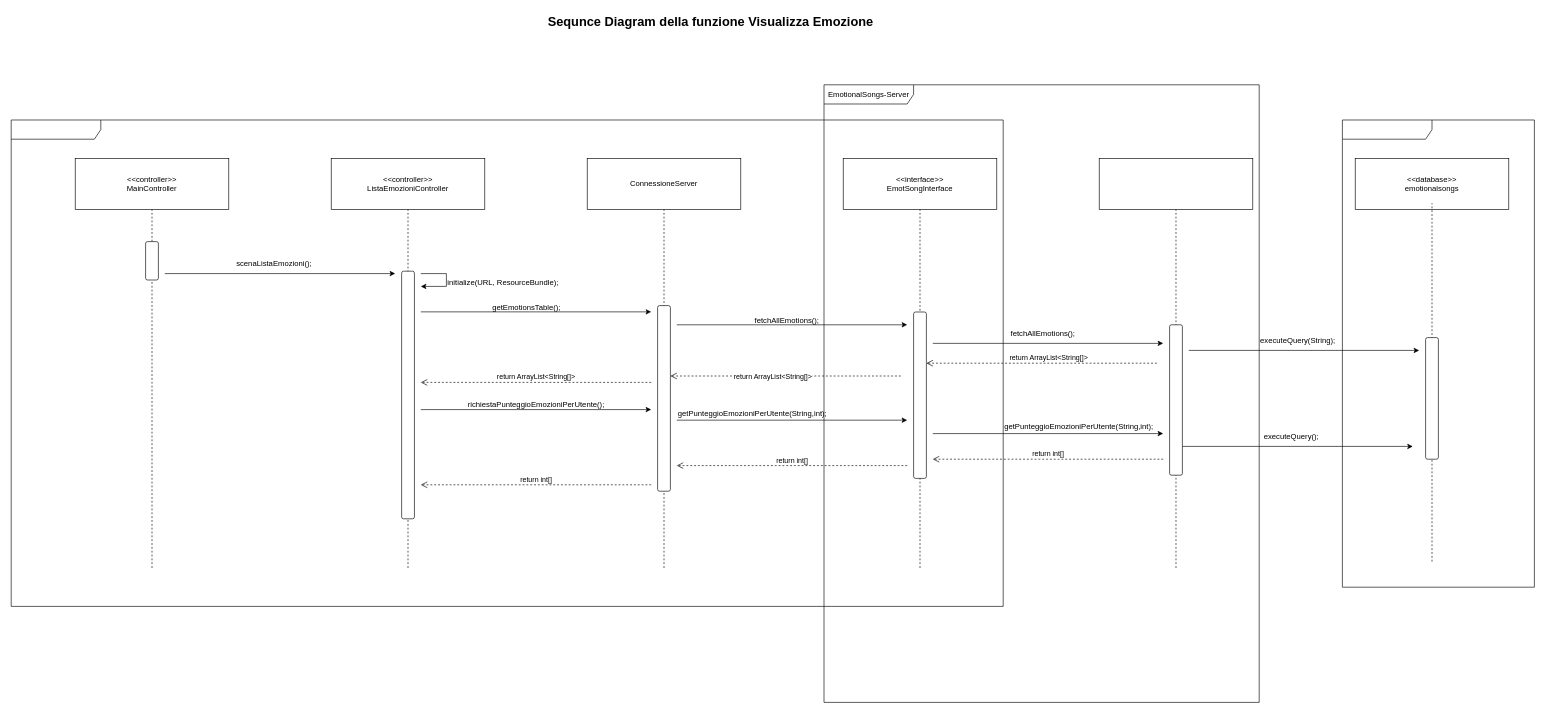
Some shapes in this 1546 by 714 pixel diagram are drawn without their labels. Here are the shapes that lost their labels. From the top down, the centre of each, then its label:
pixel 1176 184: ServerImplemention
pixel 507 362: EmotionalSongs-Client
pixel 1438 353: PostgreSQL
